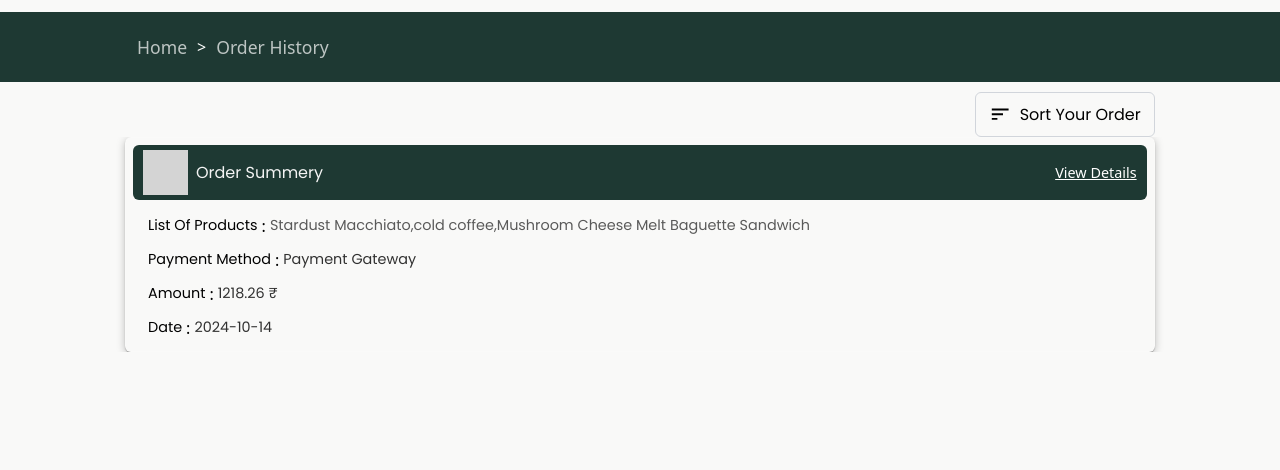
it: Order History Component Test With Orders › Order History Empty
The width and height of the screenshot is (1280, 470).
Click the text with test id "ohViewDetailsTest": click(1096, 172) 1055,163 -> 1137,182
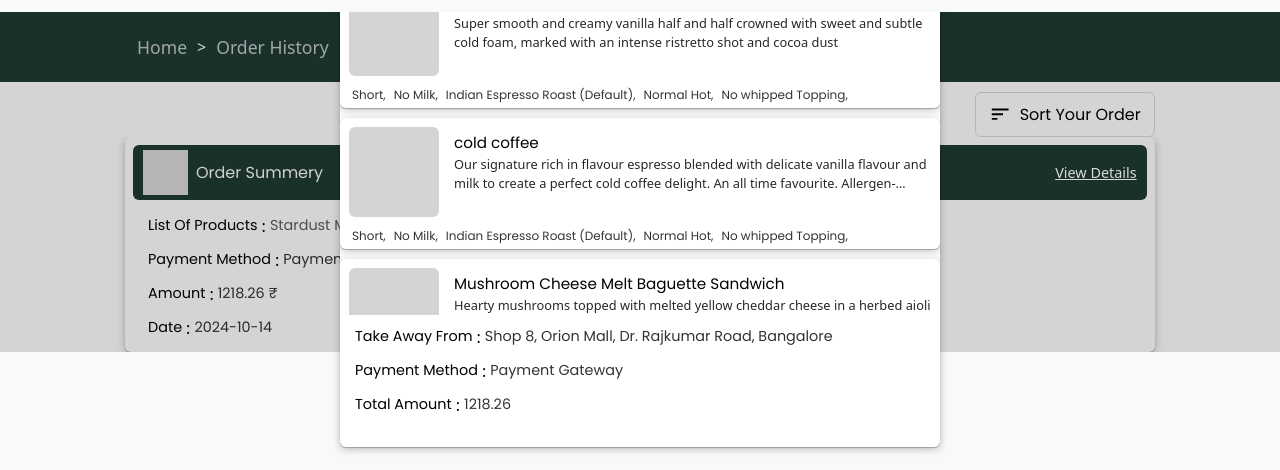
Now the text "Shop 8, Orion Mall, Dr. Rajkumar Road, Bangalore" is shown, box 485,326 -> 833,348
